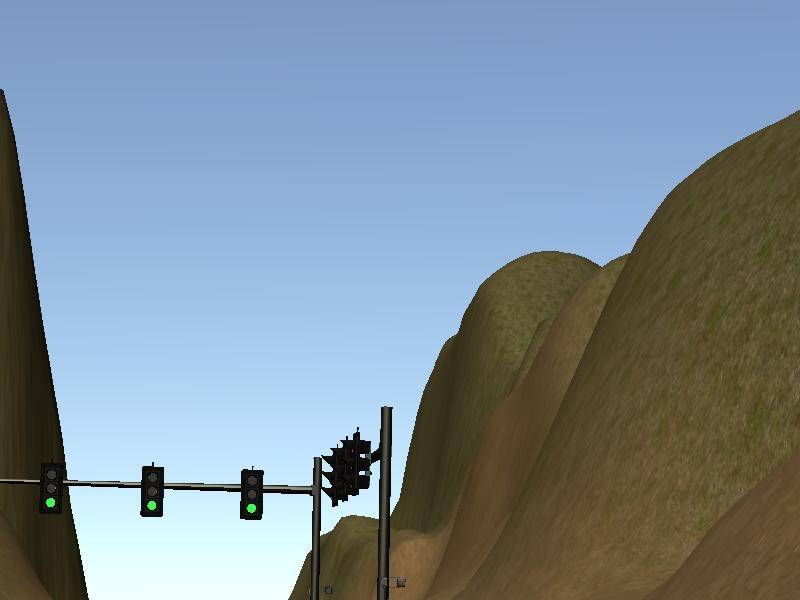green: (39, 459, 63, 514), (139, 465, 163, 520), (239, 468, 263, 517)
